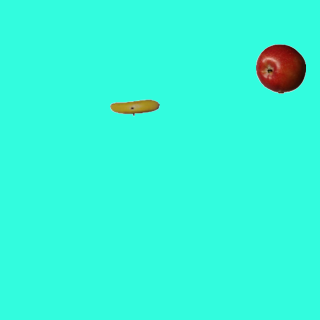Apple Braeburn: (255, 43, 305, 93)
Banana: (109, 82, 159, 132)
